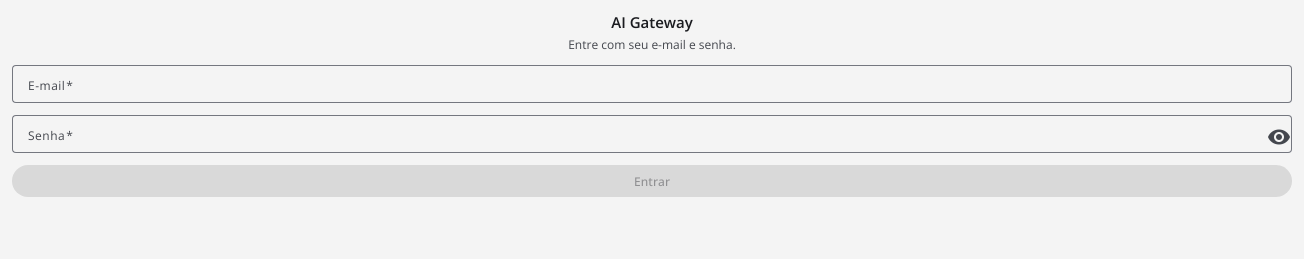
Test: SignInComponent › error messages › should clear the previous error on a new submit
Type "ana@example.com" into the field named "email" at [652, 84], box [28, 72, 1276, 96]
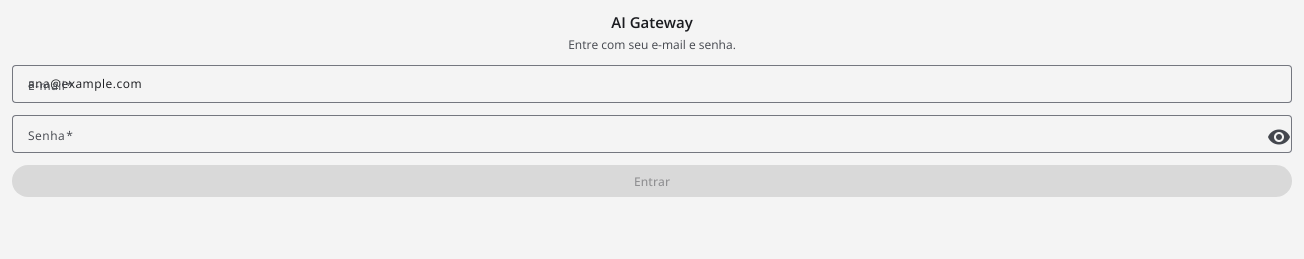
Type "secret-password" into the password field named "password" at [642, 134], box [28, 122, 1256, 146]
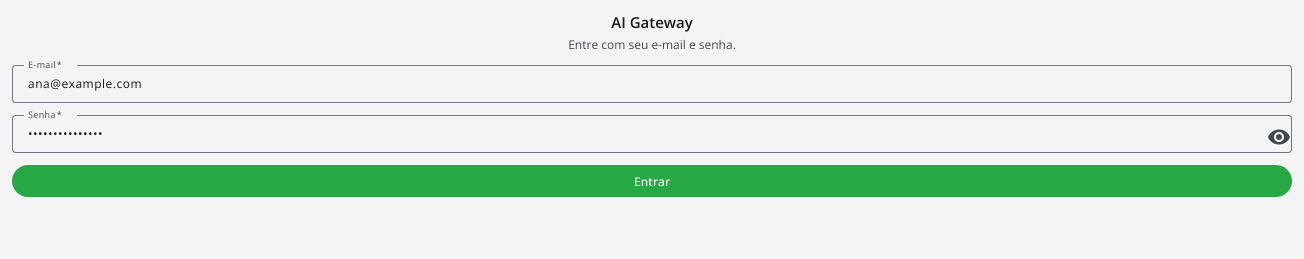
Submit the form with class "sign-in-form", box [12, 65, 1292, 197]
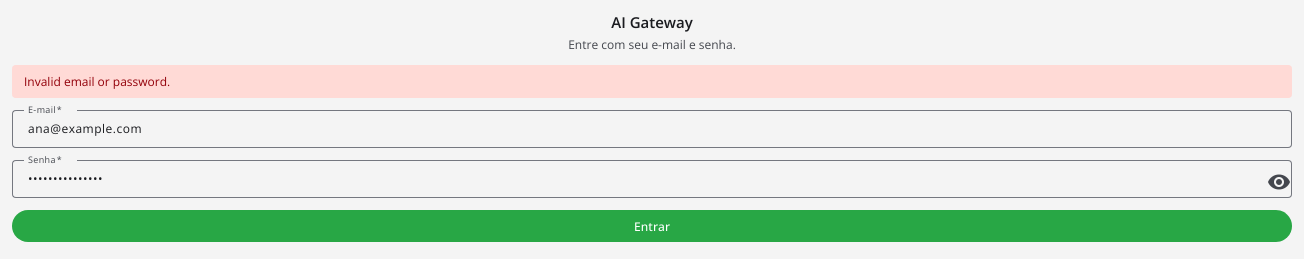
Now the text "Invalid email or password." is shown, box [12, 65, 1292, 98]
Submit the form with class "sign-in-form", box [12, 110, 1292, 242]
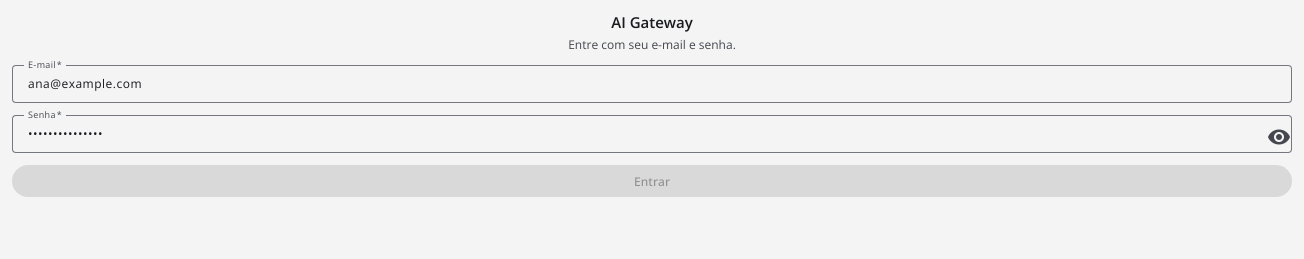
Now the message with class "callout-error" is gone
